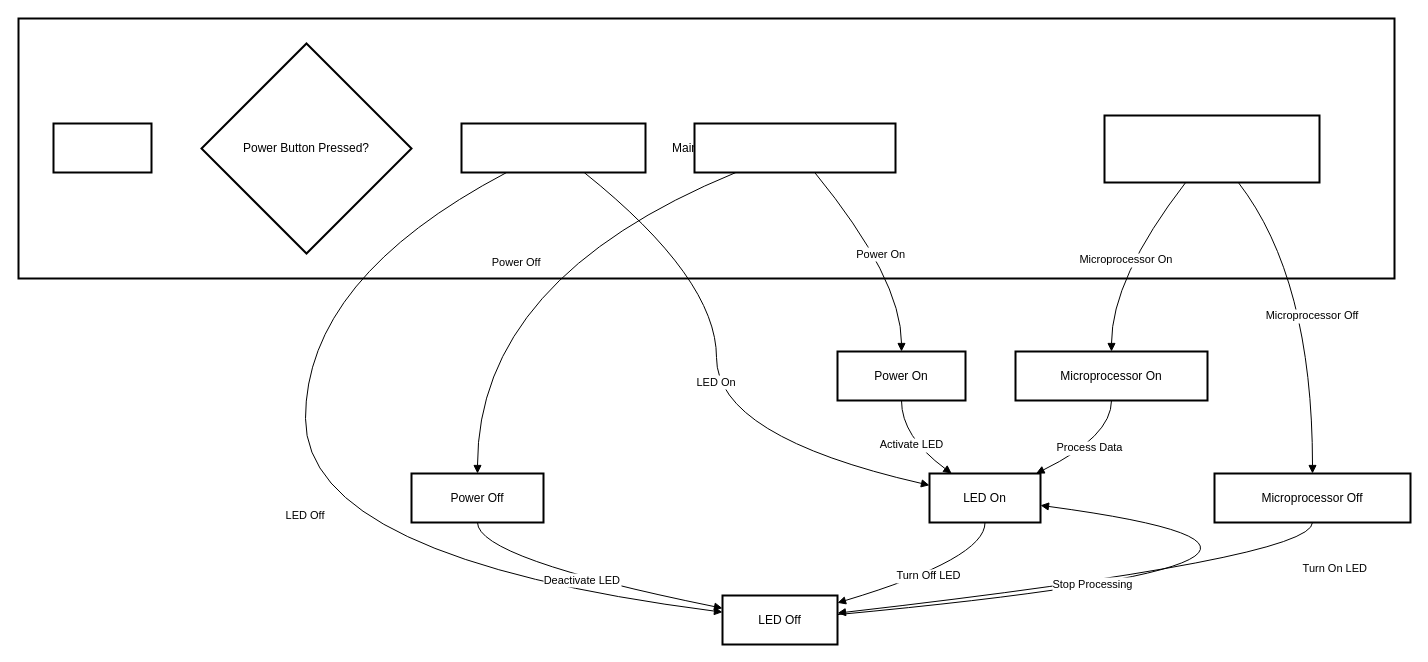
Some shapes in this 1428 by 662 pixel diagram are drawn without their labels. The shapes that lost their labels are listed below. From the top down, each one's centre as x and y in pixels, then its label:
(102,147): Input
(553,147): Check LED Status
(794,147): Check Power Status
(1211,148): Check Microprocessor Status
